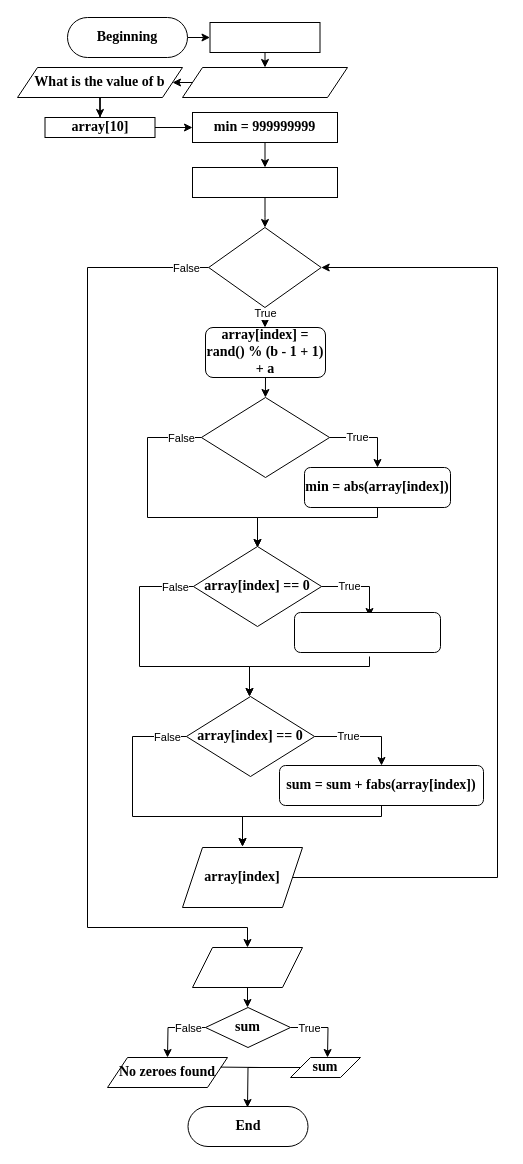
The diagram is 523 pixels wide and 1164 high, and some of its shapes have lost their labels. Here are the shapes that lost their labels. From the top down, the centre of each, then its label:
At (x=264, y=37): "srand(time(0))".
At (x=265, y=82): "What is the value for a".
At (x=265, y=182): "foundzero = 0".
At (x=264, y=267): "index = 0; index < 10; index++".
At (x=265, y=437): "fabs(array[index])".
At (x=367, y=632): "foundzero = 1".
At (x=247, y=967): "Min".
